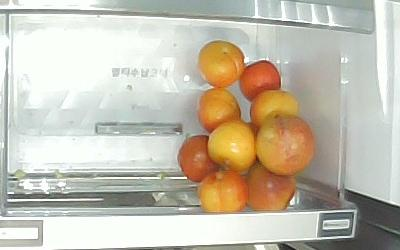prune: (256, 110, 318, 175), (208, 121, 257, 173), (247, 164, 296, 212), (198, 41, 245, 88), (200, 170, 249, 213), (178, 135, 220, 182), (250, 89, 300, 128), (199, 89, 241, 132), (241, 59, 282, 103)
